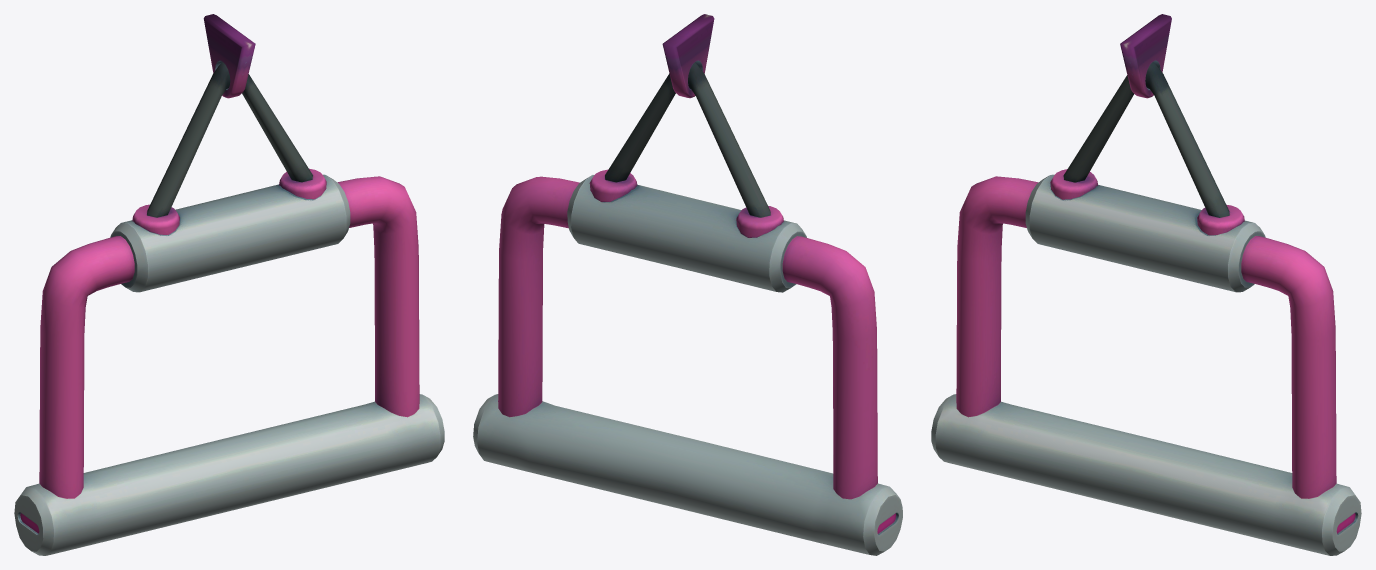
File: ENV_S04_FloatingCannonTubes.fbx
The picture shows the model from 3 angles, left to right: view 1: azimuth 30°, elevation 25°; view 2: azimuth 150°, elevation 25°; view 3: azimuth 330°, elevation 25°; orthographic projection.
Parts seen in each view (by area): view 1: ENV_S04_FloatingCannonTubes_0; view 2: ENV_S04_FloatingCannonTubes_0; view 3: ENV_S04_FloatingCannonTubes_0.
Part boxes in pixels (box(x1,y1,x2,y2)): ENV_S04_FloatingCannonTubes_0: box(14, 14, 444, 555); ENV_S04_FloatingCannonTubes_0: box(473, 14, 902, 555); ENV_S04_FloatingCannonTubes_0: box(931, 14, 1361, 555).
Size of the model in its own units: 37.18 by 42.23 by 6.55.
